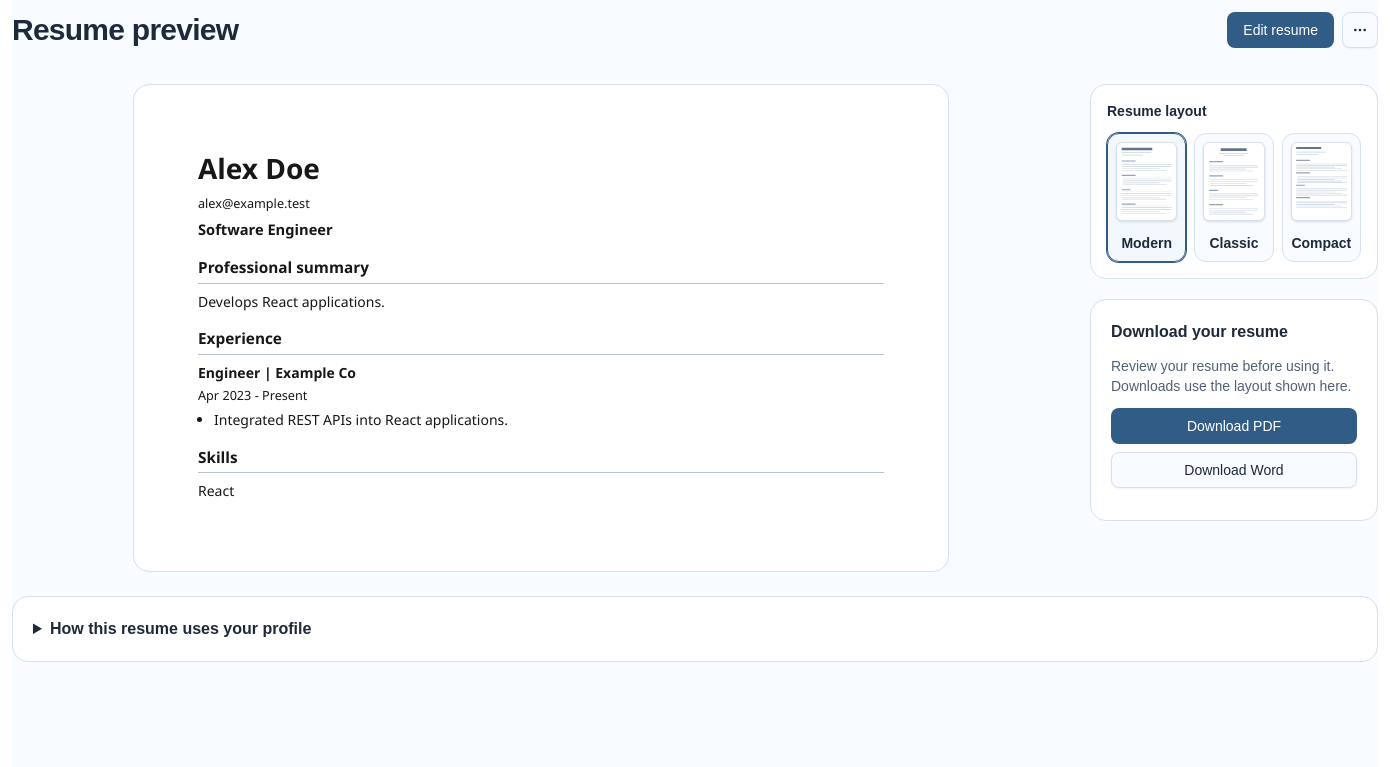
Test: offers reload for a layout conflict and preserves it while text is edited
Click the button "Edit resume" at (1281, 30), box [1227,12,1334,48]
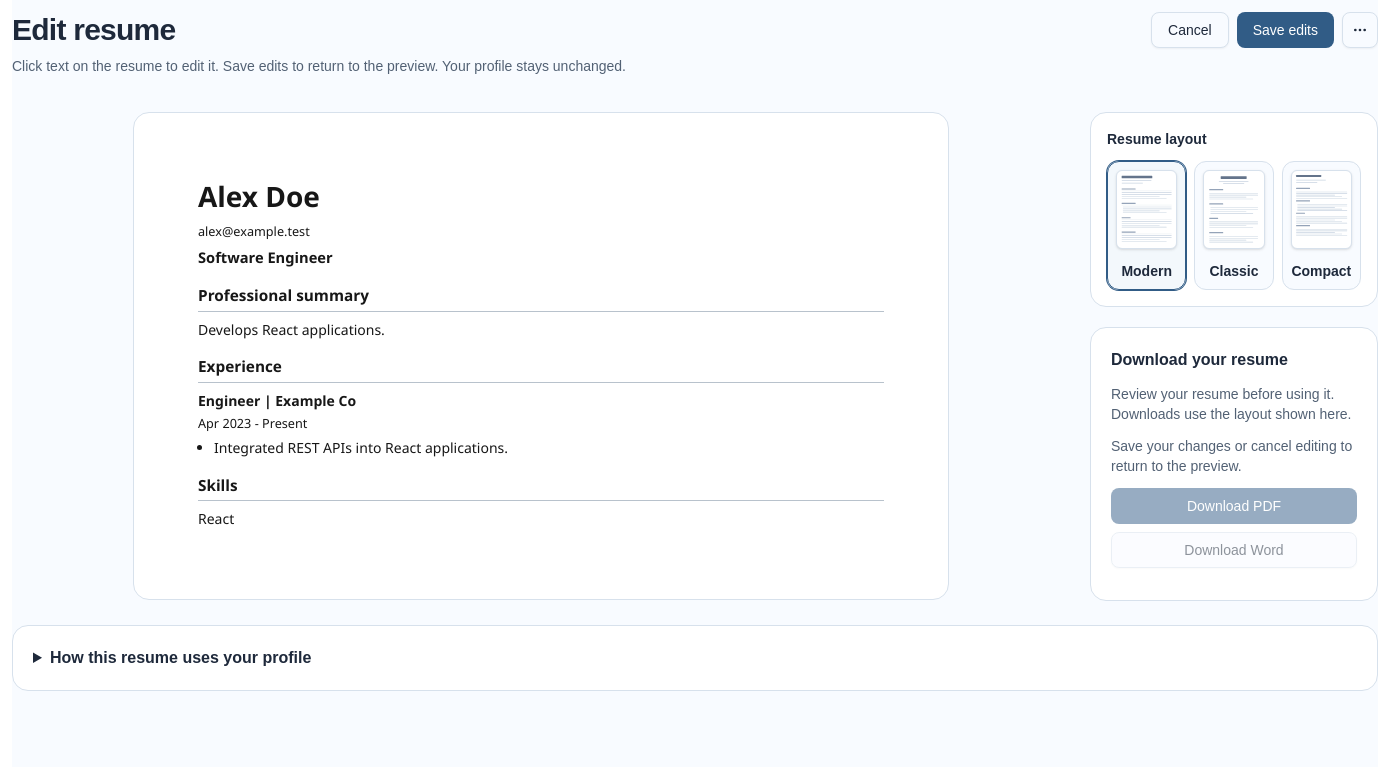
Expected: the button "Reload saved version" is not shown
Click the radio button labelled "Classic" at (1234, 225), box [1194,161,1274,290]
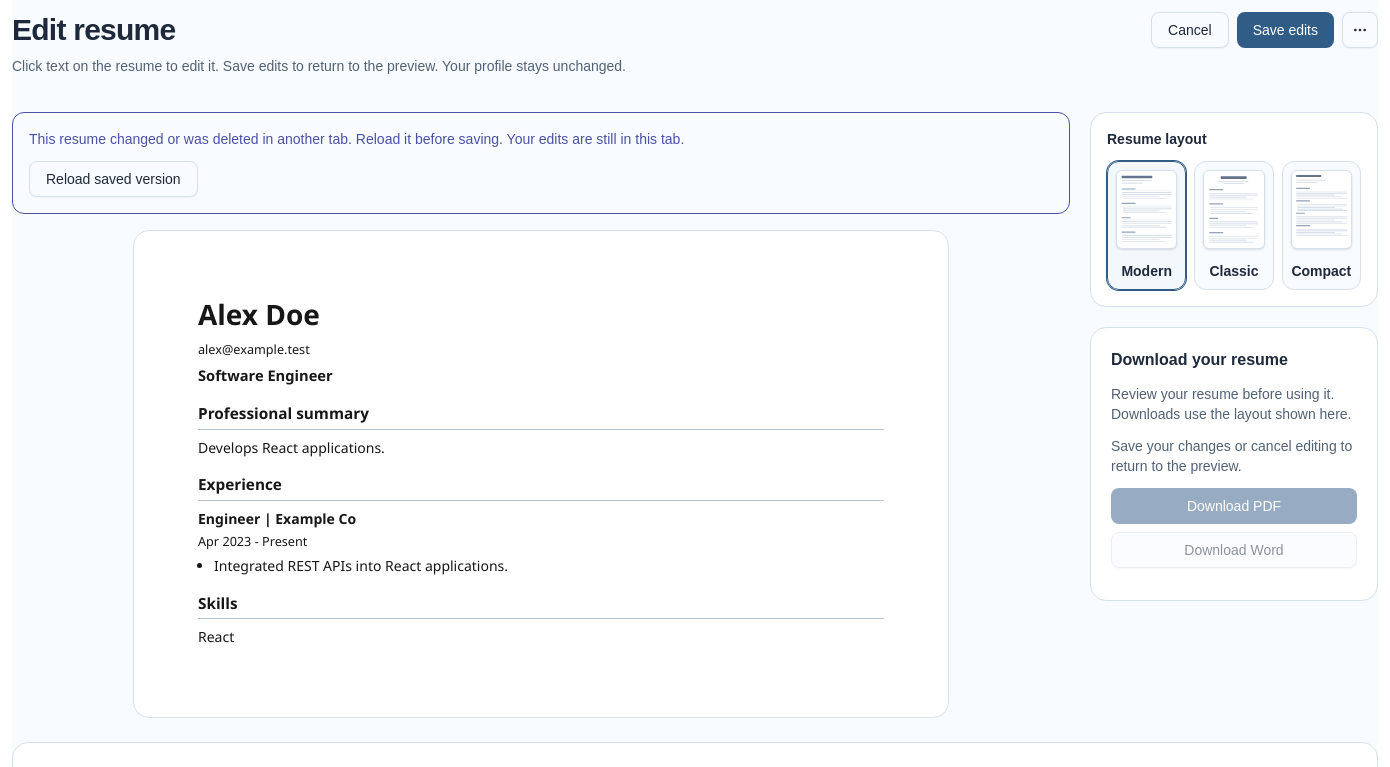
Result: the button "Reload saved version" is enabled at [29,161,198,197]
Clear the field named "Professional summary" at (291, 447), box [198,438,385,456]
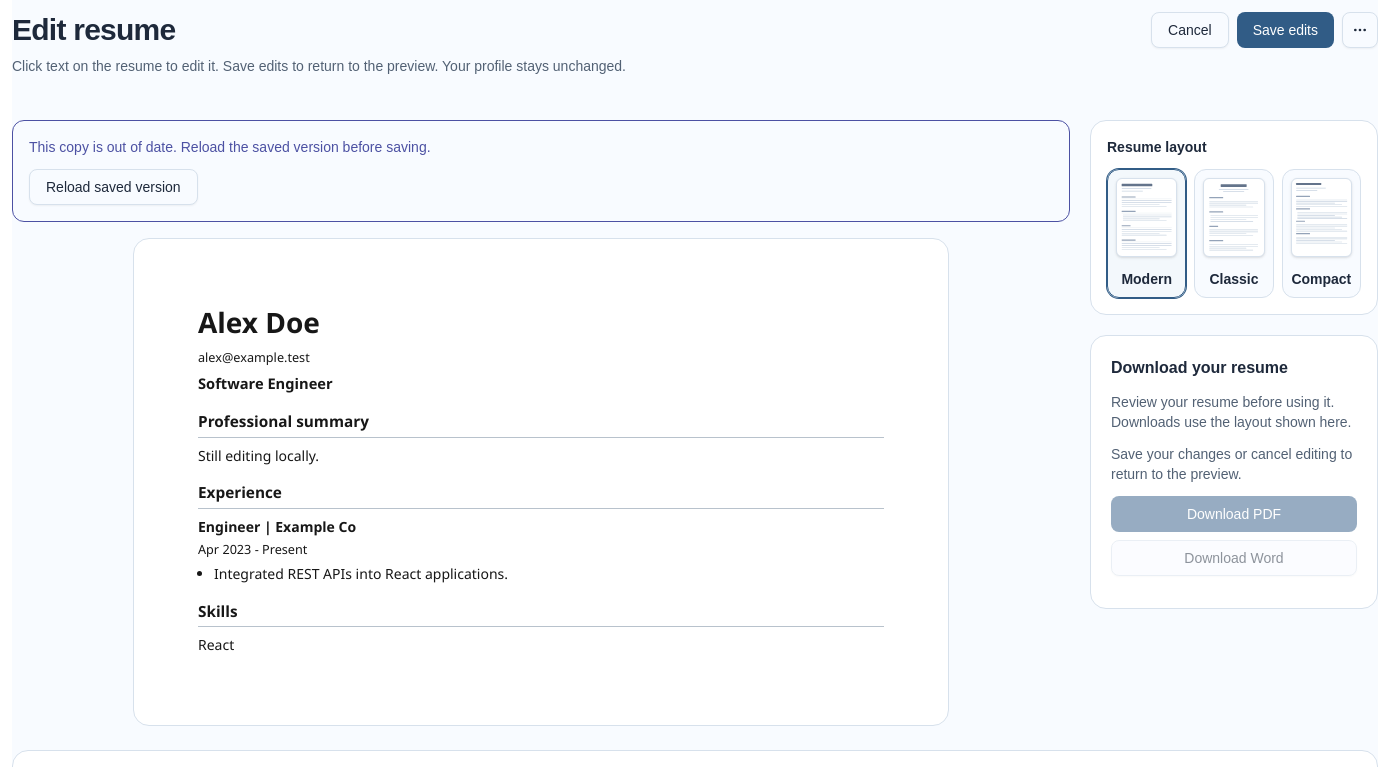
Result: the button "Reload saved version" is enabled at [29,169,198,205]
Result: the message named "Resume error" shows "out of date" at [29,139,431,155]
